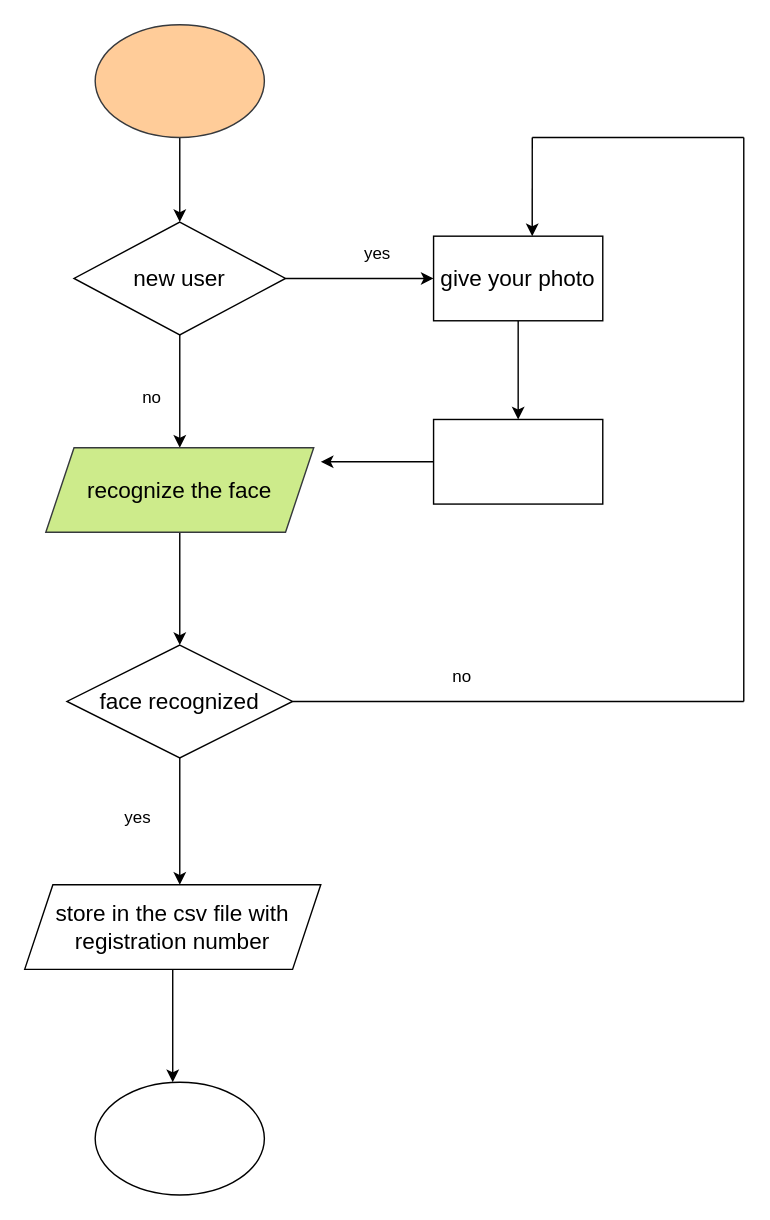
The diagram is 770 pixels wide and 1220 high, and some of its shapes have lost their labels. Each missing label, with the centre of its shape:
start: point 179,80
stop: point 179,1138
store the data in your folder: point 517,461
